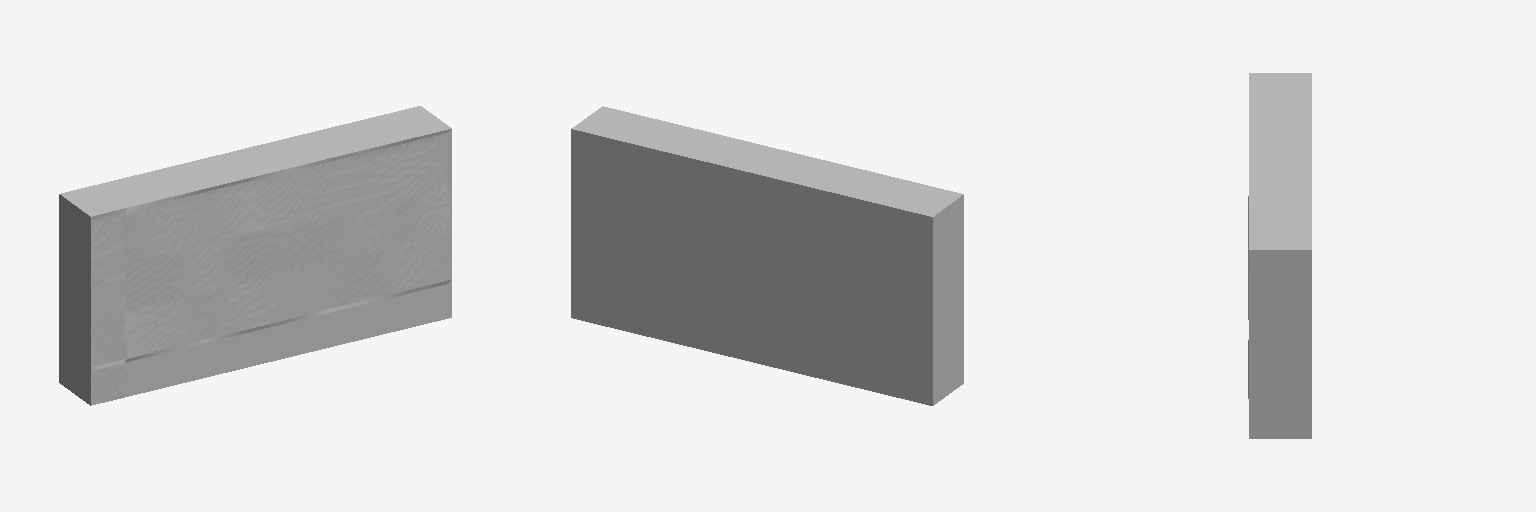
The model's file is rectangular_prism_bumps_6_5.obj.
The picture shows the model from 3 angles: view 1: azimuth 30°, elevation 25°; view 2: azimuth 150°, elevation 25°; view 3: azimuth 270°, elevation 25°; orthographic projection.
Bounding box in the file's own units: 10 × 5 × 1.53.